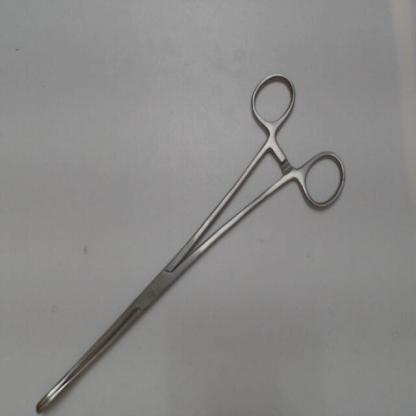Sponge Forceps: (30, 67, 353, 415)
